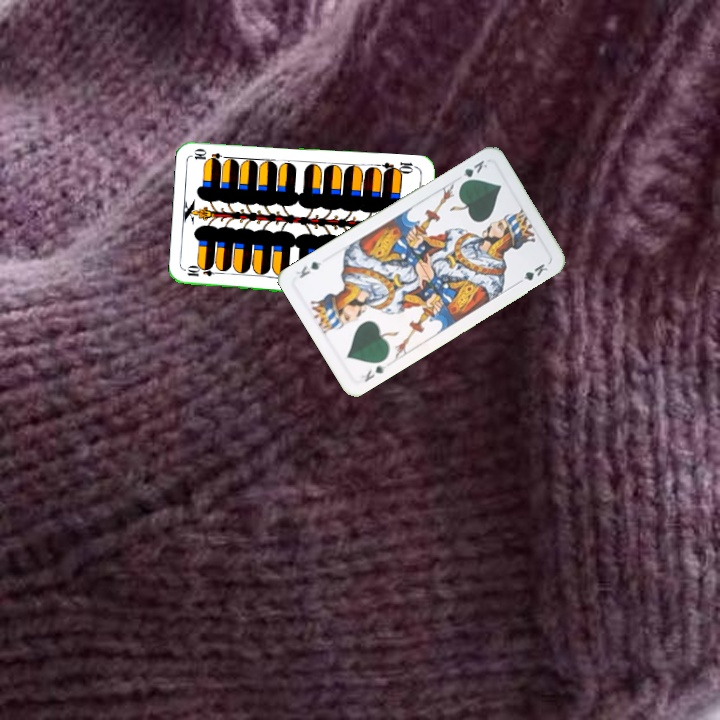E10: (379, 158, 419, 177), (183, 264, 224, 279)
GK: (456, 156, 490, 187), (360, 361, 389, 385)
